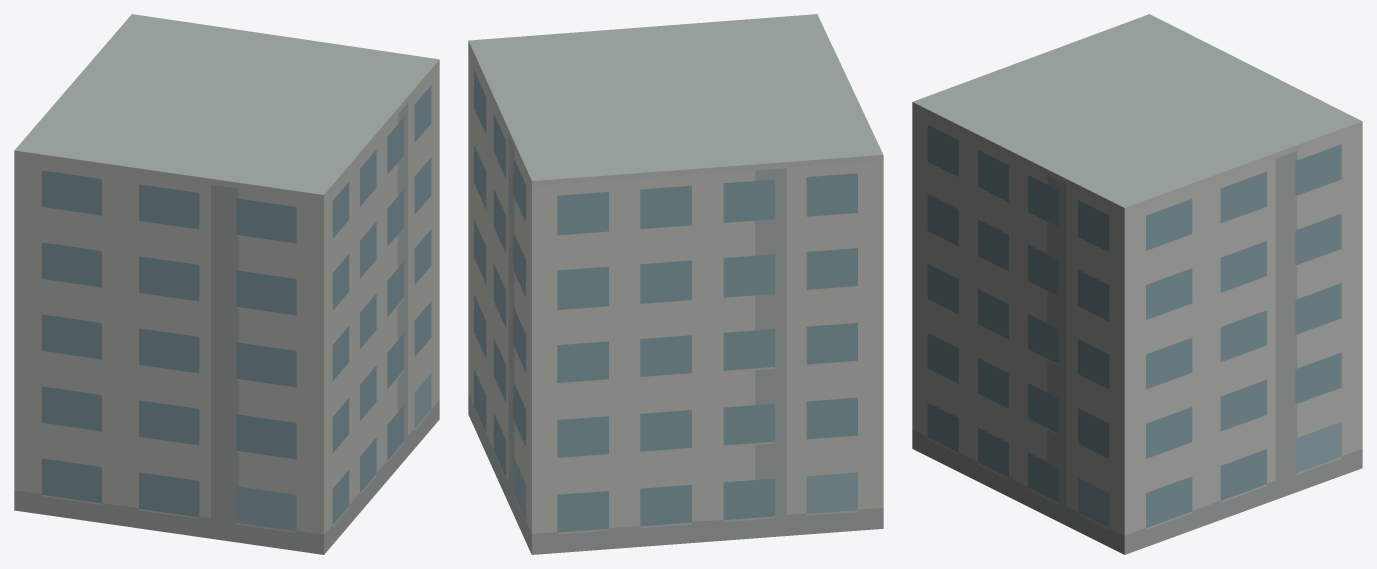
The model's file is survey-upis-32890883.glb.
3 renders of one model, left to right at view 1: azimuth 30°, elevation 25°; view 2: azimuth 150°, elevation 25°; view 3: azimuth 270°, elevation 25°, orthographic. The views are drawn at different scales.
Parts seen in each view (by area): view 1: survey-upis-32890883.tmp; view 2: survey-upis-32890883.tmp; view 3: survey-upis-32890883.tmp.
Part boxes in pixels (x1,y1,x2,y2): survey-upis-32890883.tmp: (14, 14, 439, 554); survey-upis-32890883.tmp: (468, 14, 883, 554); survey-upis-32890883.tmp: (912, 14, 1362, 554).
Bounding box in the file's own units: 17.76 × 14.8 × 17.41.
